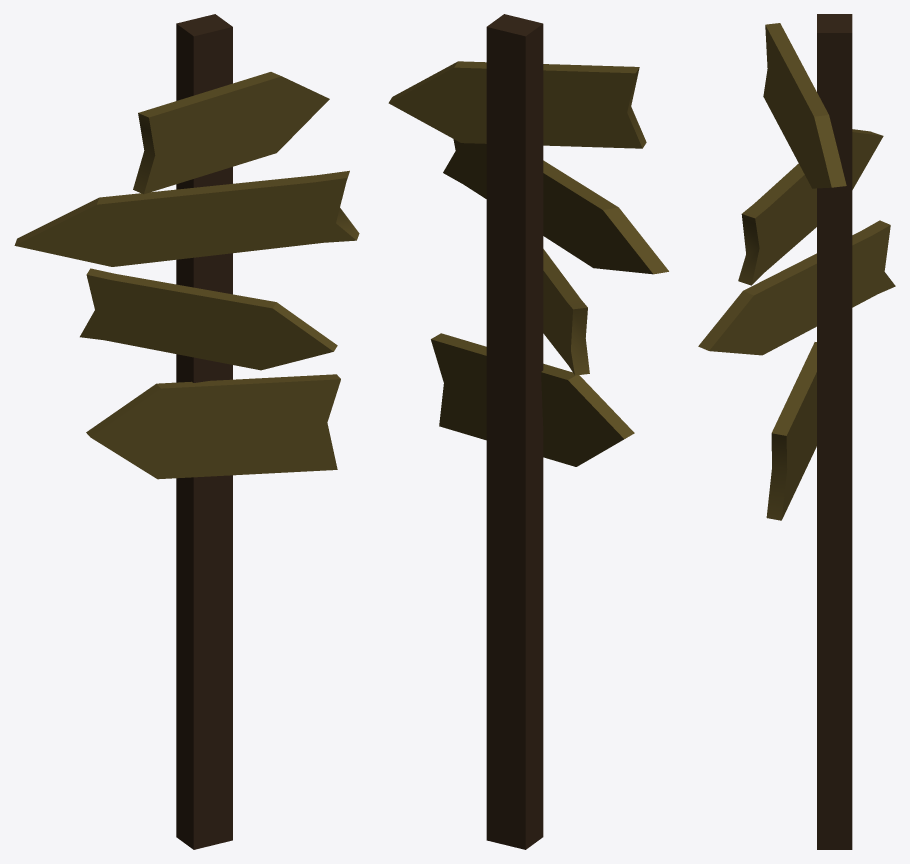
The model's file is roadSignTile.fbx.
3 views of the same model, side by side, from view 1: azimuth 30°, elevation 25°; view 2: azimuth 150°, elevation 25°; view 3: azimuth 270°, elevation 25° (orthographic).
Visible parts, largest first — view 1: Box069; view 2: Box069; view 3: Box069.
Part boxes in pixels (x1,y1,x2,y2): Box069: (14, 14, 359, 849); Box069: (388, 14, 668, 849); Box069: (698, 14, 895, 849).
Bounding box in the file's own units: 5.15 × 13.5 × 2.96.
